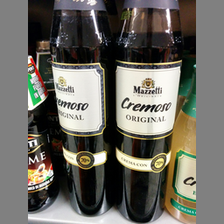vinegar: (48, 1, 117, 218), (116, 1, 183, 224)
